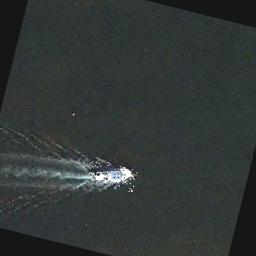boat: (87, 158, 138, 193)
